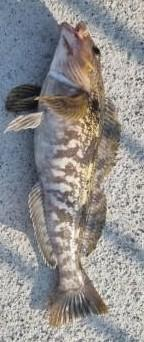fish: (6, 21, 120, 324)
